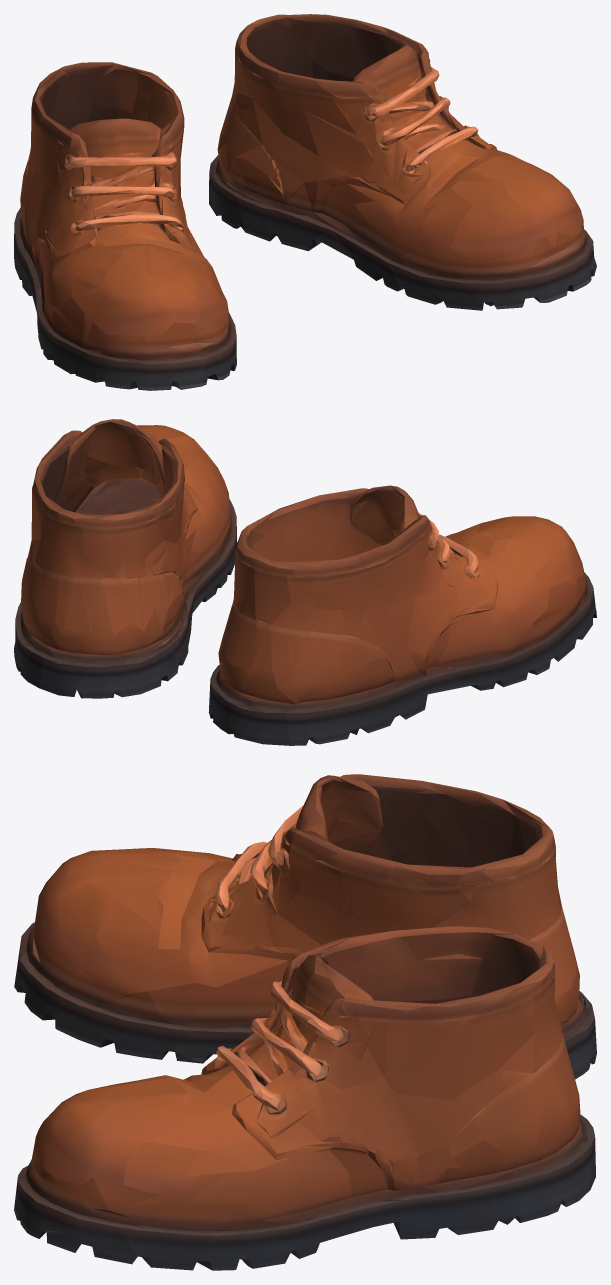
The model's file is shoes_work_boots_v2.glb.
3 renders of one model, top to bottom at view 1: azimuth 30°, elevation 25°; view 2: azimuth 150°, elevation 25°; view 3: azimuth 270°, elevation 25°, orthographic. The views are drawn at different scales.
Visible parts, largest first — view 1: Mesh_0; view 2: Mesh_0; view 3: Mesh_0.
Boxes of the visible parts, x1,y1,x2,y2 form: Mesh_0: [14, 14, 596, 390]; Mesh_0: [14, 419, 596, 745]; Mesh_0: [14, 774, 596, 1270].
Bounding box in the file's own units: 1.9 × 0.6794 × 1.45.
Materials: 1 (1 with a texture image).
